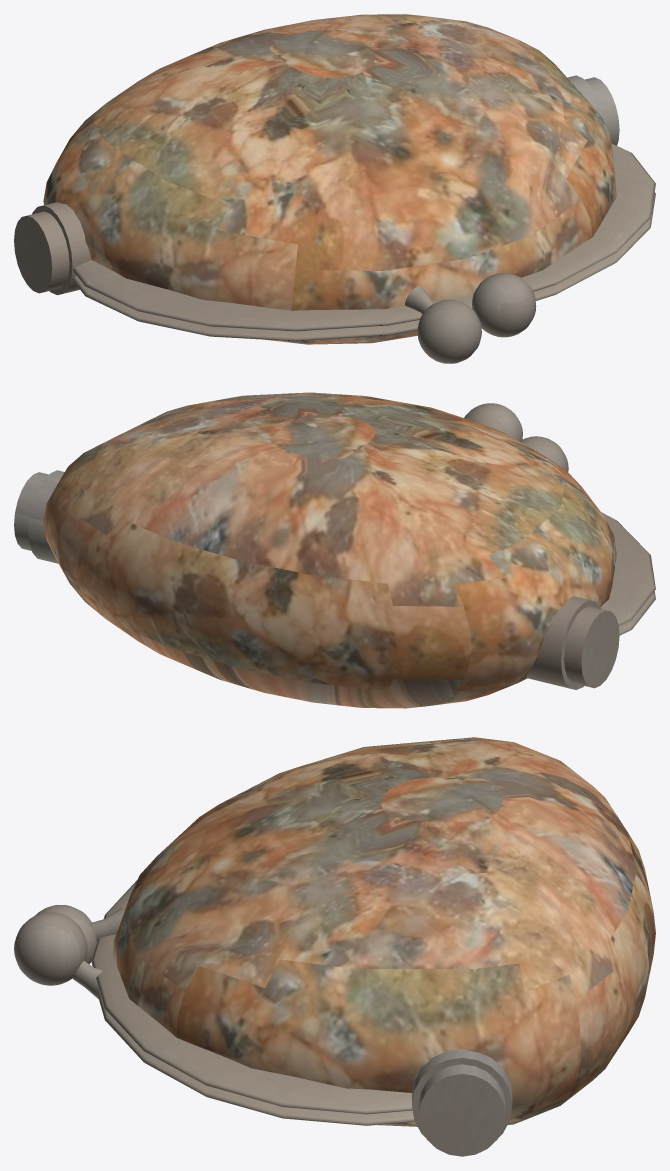
Rendered from Purse final.fbx.
The picture shows the model from 3 angles, top to bottom: view 1: azimuth 30°, elevation 25°; view 2: azimuth 150°, elevation 25°; view 3: azimuth 270°, elevation 25°; orthographic projection. The views are drawn at different scales.
Parts seen in each view (by area): view 1: pSphere1, pSphere2, pasted__pSphere2, pasted__pCylinder1, pSphere3, pasted__pSphere3, pCylinder1; view 2: pSphere1, pasted__pCylinder1, pCylinder1, pSphere2, pasted__pSphere3, pSphere3; view 3: pSphere1, pSphere2, pasted__pCylinder1, pasted__pSphere3, pasted__pSphere2, pCylinder1, pSphere3.
Boxes of the visible parts, box(x1,y1,x2,y2) form: pSphere1: box(43, 14, 616, 344); pSphere2: box(73, 143, 655, 331); pasted__pSphere2: box(72, 192, 655, 341); pasted__pCylinder1: box(14, 77, 619, 293); pSphere3: box(417, 299, 481, 363); pasted__pSphere3: box(472, 273, 536, 337); pCylinder1: box(32, 75, 603, 295); pSphere1: box(43, 392, 616, 708); pasted__pCylinder1: box(14, 472, 619, 688); pCylinder1: box(28, 470, 601, 689); pSphere2: box(601, 512, 655, 625); pasted__pSphere3: box(464, 403, 522, 441); pSphere3: box(519, 436, 568, 471); pSphere1: box(113, 737, 655, 1126); pSphere2: box(91, 880, 412, 1114); pasted__pCylinder1: box(418, 1064, 505, 1156); pasted__pSphere3: box(14, 912, 87, 985); pasted__pSphere2: box(96, 989, 414, 1125); pCylinder1: box(412, 1049, 512, 1137); pSphere3: box(35, 905, 96, 963).
Size of the model in its own units: 222 by 88.57 by 191.
